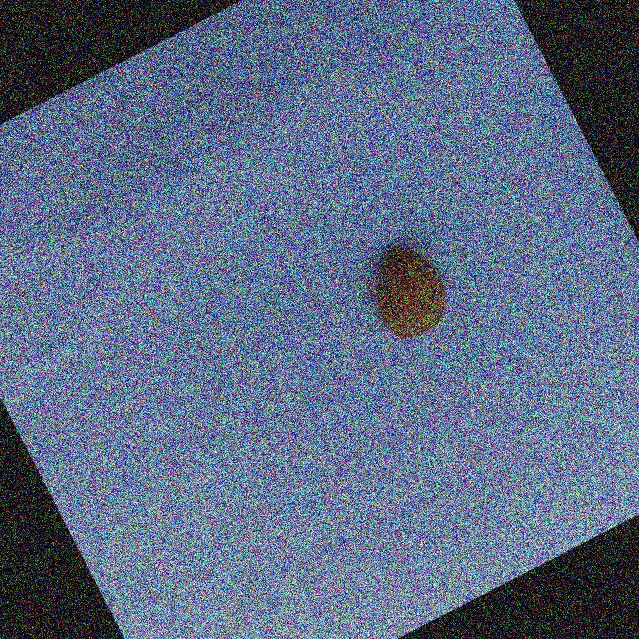grade2: (348, 231, 463, 353)
